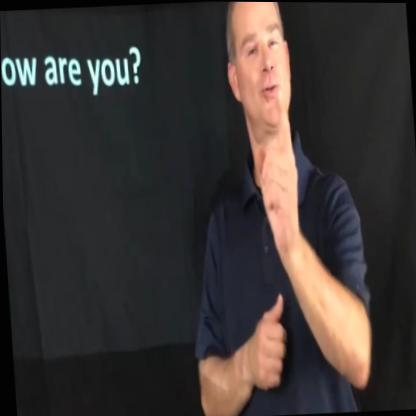HowAreYou: (224, 79, 309, 404)
